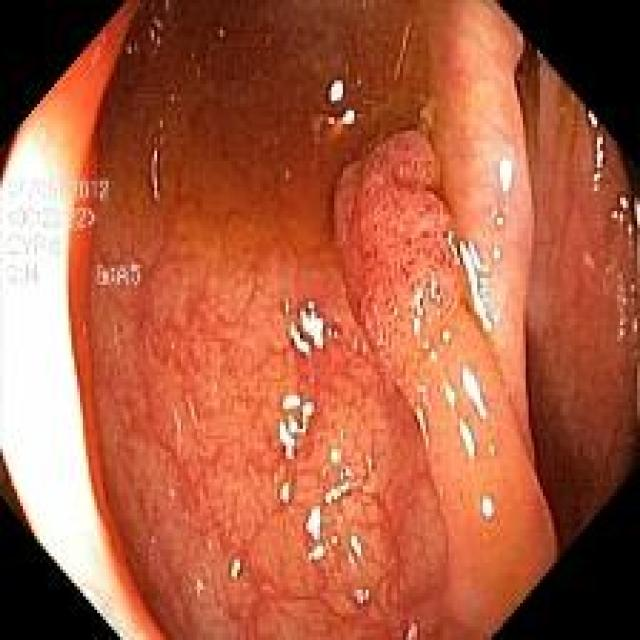Polyps: (334, 130, 462, 386)
